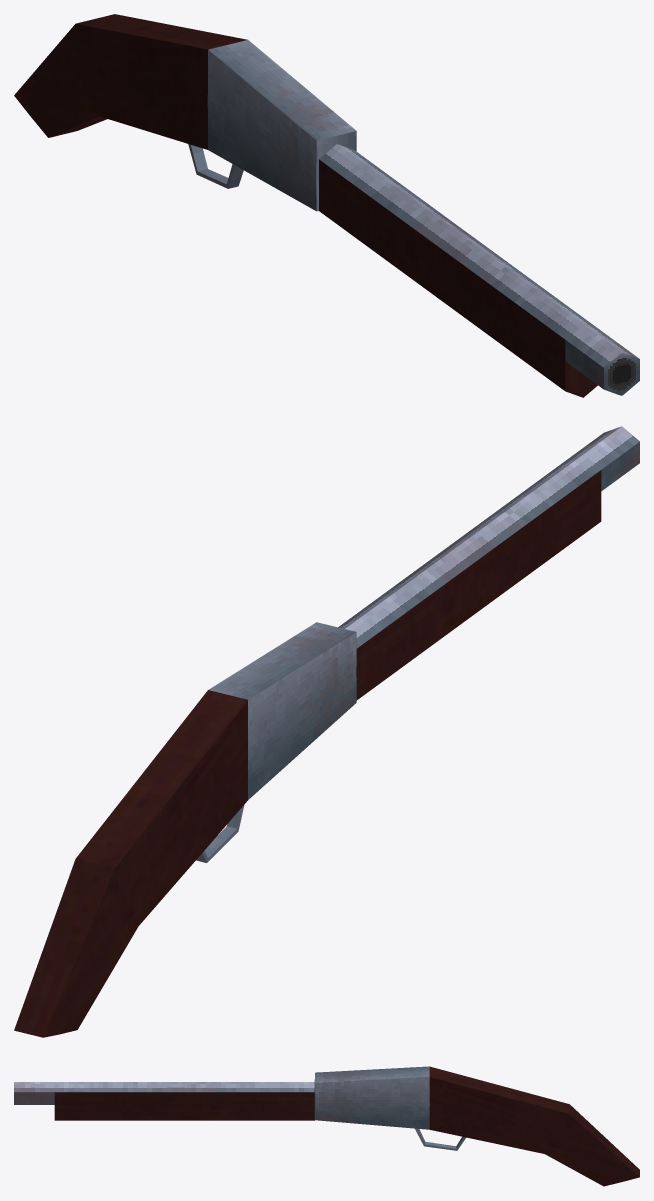
The model's file is shotgun.glb.
The picture shows the model from 3 angles, top to bottom: view 1: azimuth 30°, elevation 25°; view 2: azimuth 150°, elevation 25°; view 3: azimuth 270°, elevation 25°; orthographic projection. The views are drawn at different scales.
Visible parts, largest first — view 1: Cylinder; view 2: Cylinder; view 3: Cylinder.
Boxes of the visible parts, left/top/right/bottom form: Cylinder: left=14, top=14, right=639, bottom=397; Cylinder: left=14, top=426, right=639, bottom=1037; Cylinder: left=14, top=1066, right=639, bottom=1186.
Size of the model in its own units: 0.023 by 0.1158 by 0.5908.
1 material, 1 textured.
